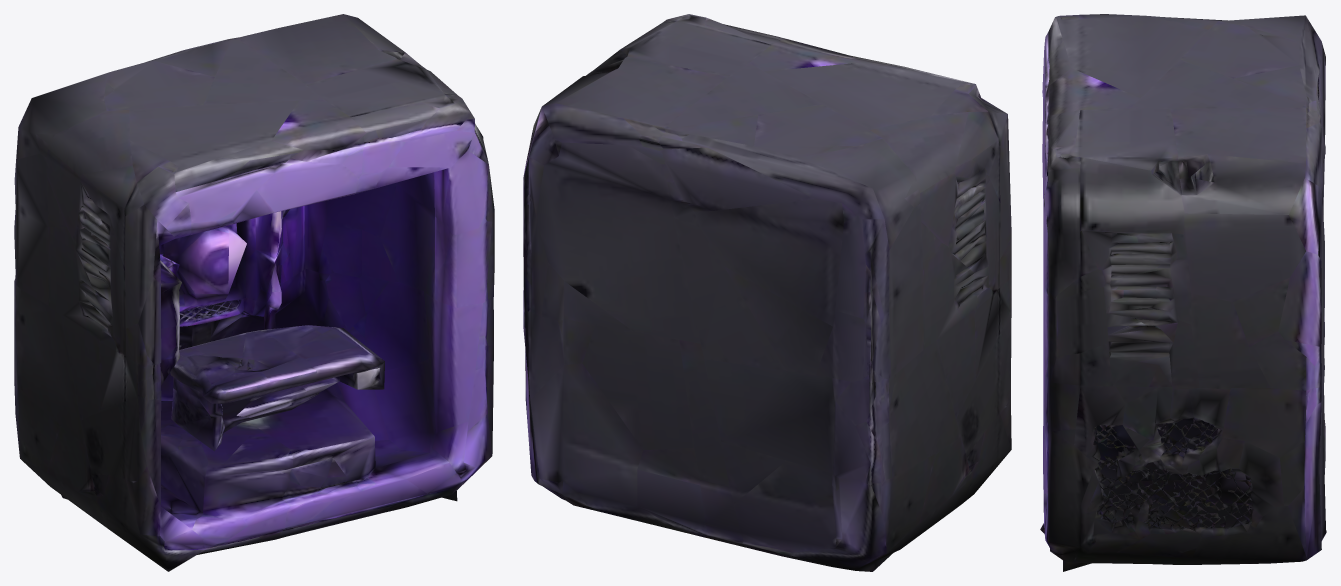
File: generic_desktop_computer.glb
The picture shows the model from 3 angles, left to right: view 1: azimuth 30°, elevation 25°; view 2: azimuth 150°, elevation 25°; view 3: azimuth 270°, elevation 25°; orthographic projection. The views are drawn at different scales.
Visible parts, largest first — view 1: tripo_node_d7293e9e-3ca0-480d-8a90-ebe721825019; view 2: tripo_node_d7293e9e-3ca0-480d-8a90-ebe721825019; view 3: tripo_node_d7293e9e-3ca0-480d-8a90-ebe721825019.
Part boxes in pixels (x1,y1,x2,y2): tripo_node_d7293e9e-3ca0-480d-8a90-ebe721825019: (14, 14, 494, 571); tripo_node_d7293e9e-3ca0-480d-8a90-ebe721825019: (523, 14, 1011, 571); tripo_node_d7293e9e-3ca0-480d-8a90-ebe721825019: (1040, 14, 1326, 571).
Bounding box in the file's own units: 0.914 × 0.9775 × 0.6128.
Materials: 1 (1 with a texture image).
